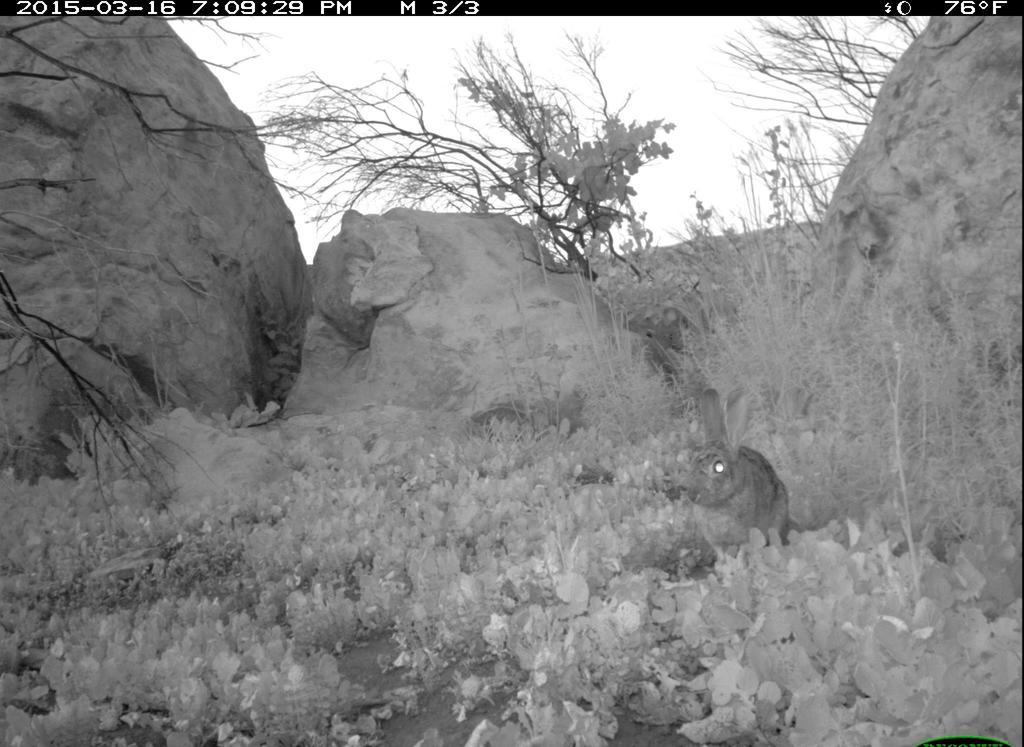rabbit: (683, 379, 795, 569)
